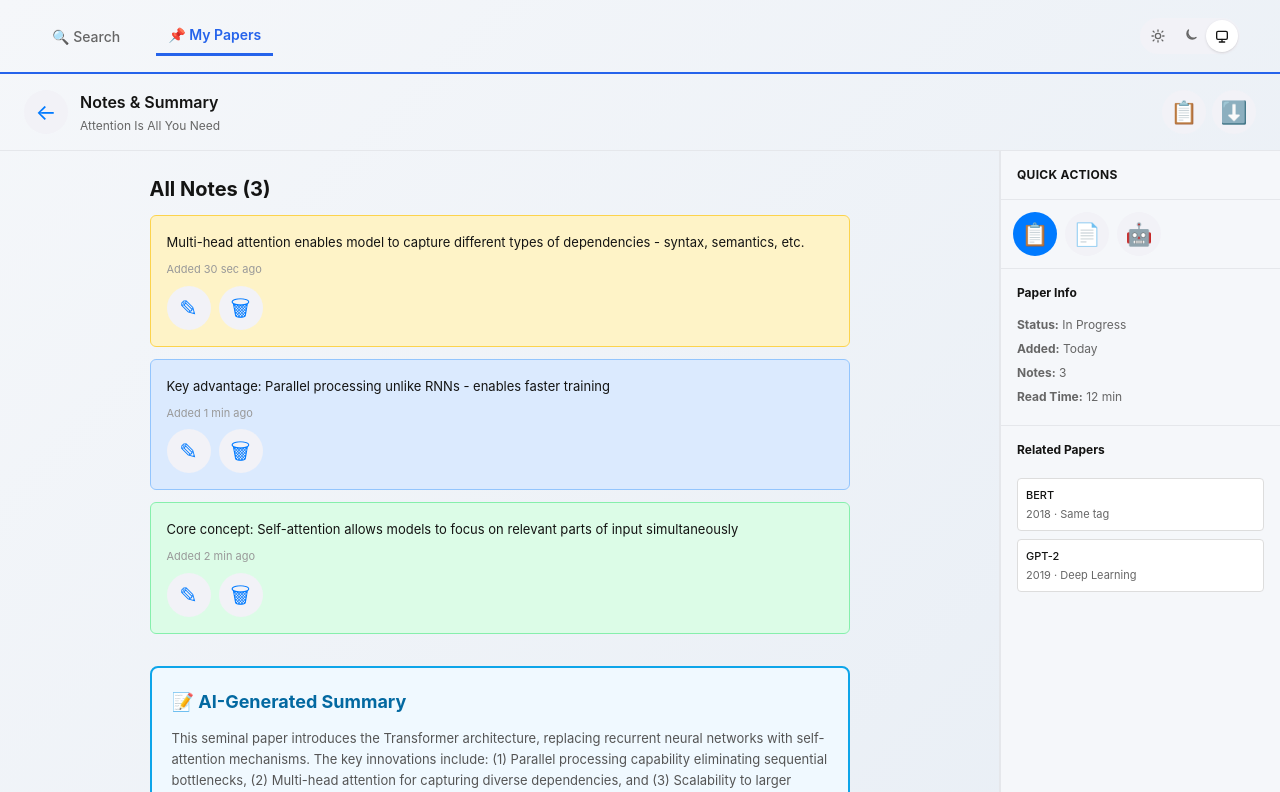
Test: UX: Notes & Summary › When the user edits a note, Then the updated text is shown
This screenshot has width=1280, height=792.
Check: the heading "All Notes (3)" is shown, box [150,177,270,201]
Click the button named "edit". click: (188, 308)
box: [166,286,210,330]
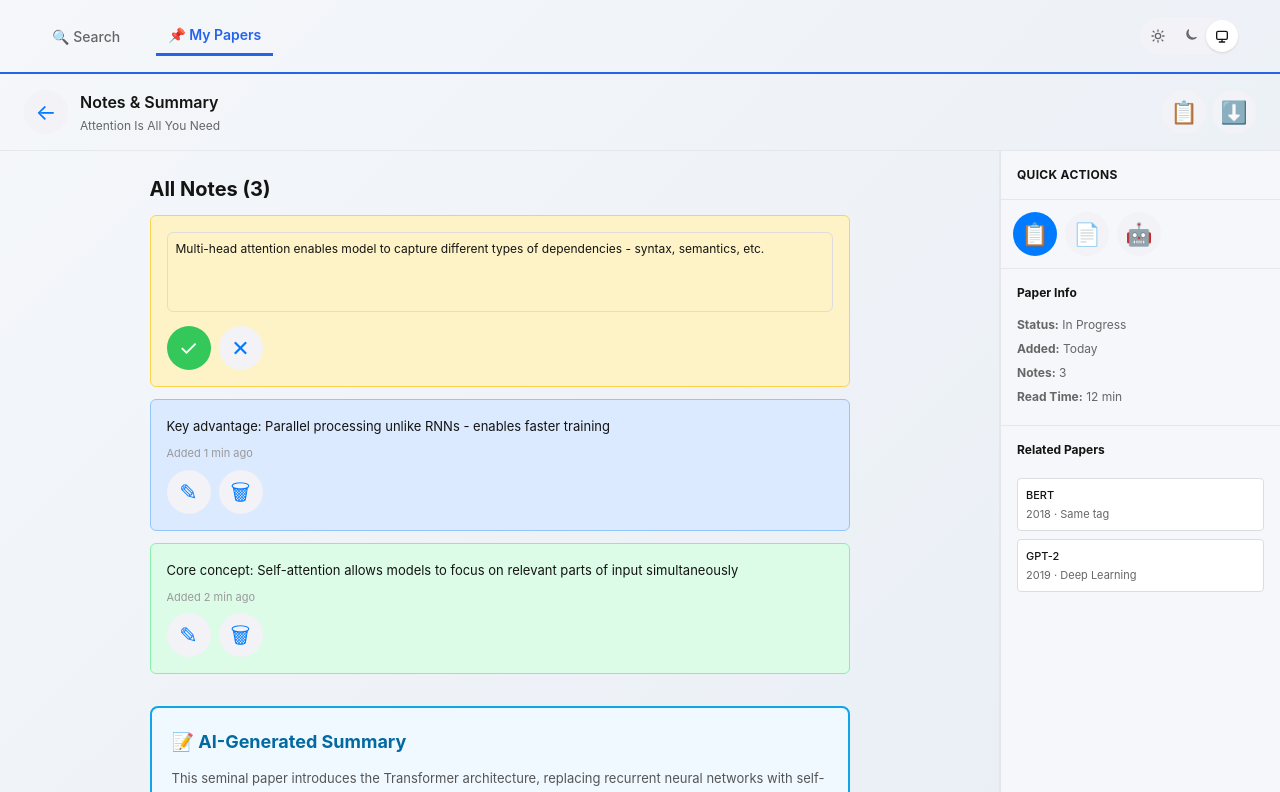
Replace the text in the text box showing "multi-head attention" with "Edited: heads capture different relations". click: (500, 272)
box: [166,232,832,312]
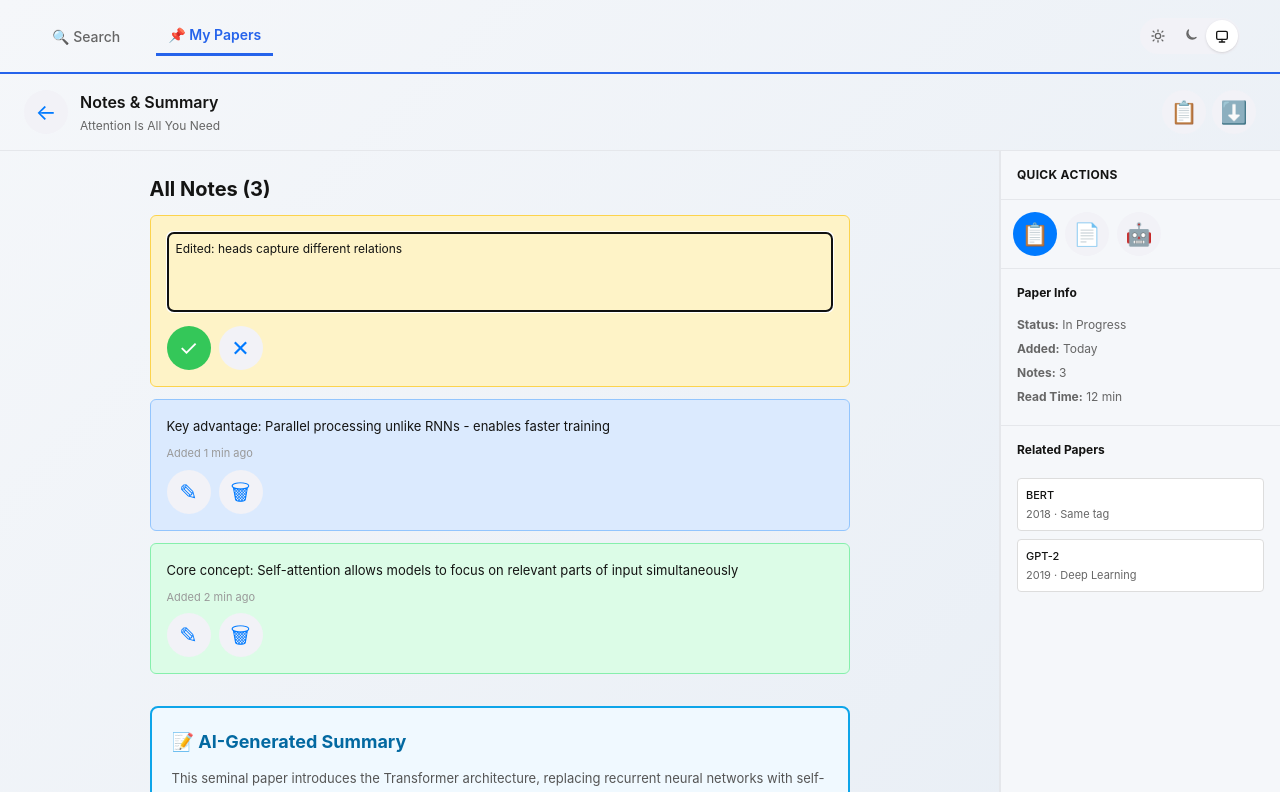
Click the button named "save". click: (188, 348)
box: [166,326,210,370]
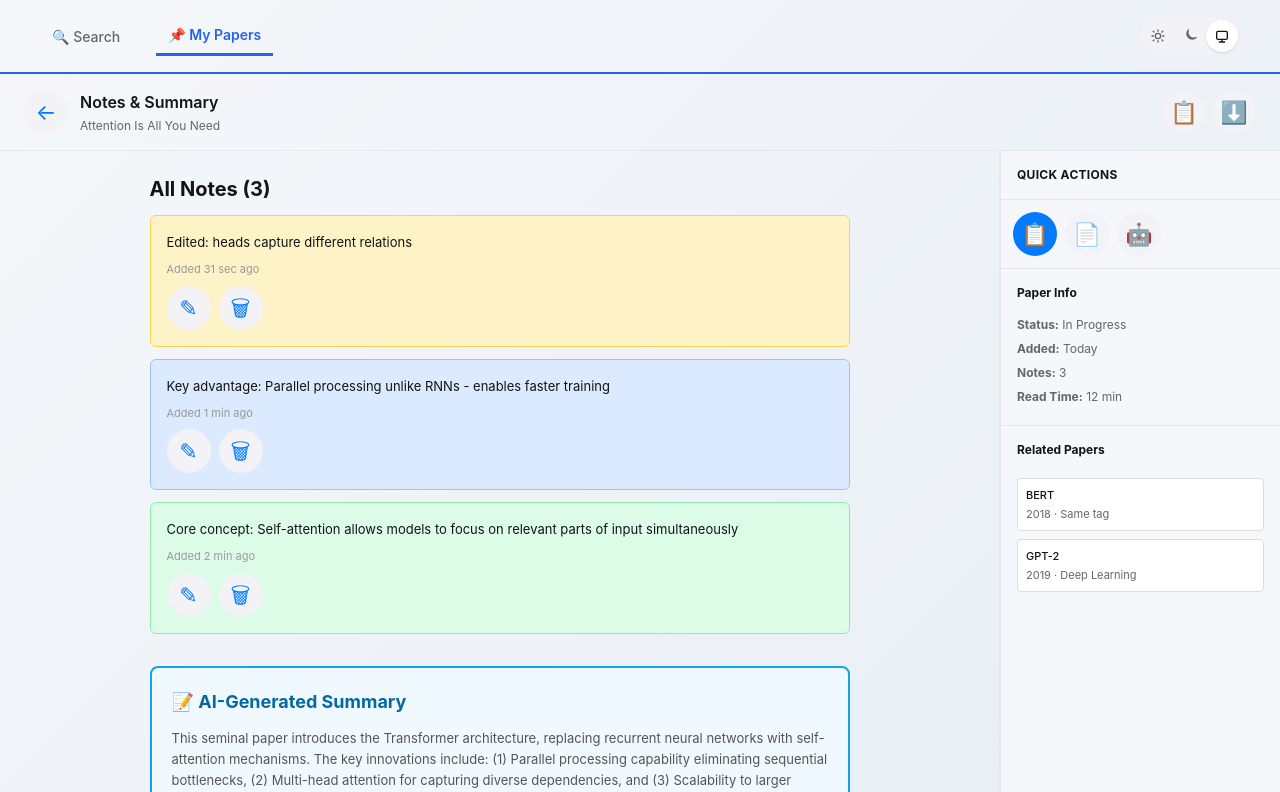
Check: the text "Edited: heads capture different relations" is shown, box [166,234,412,250]
